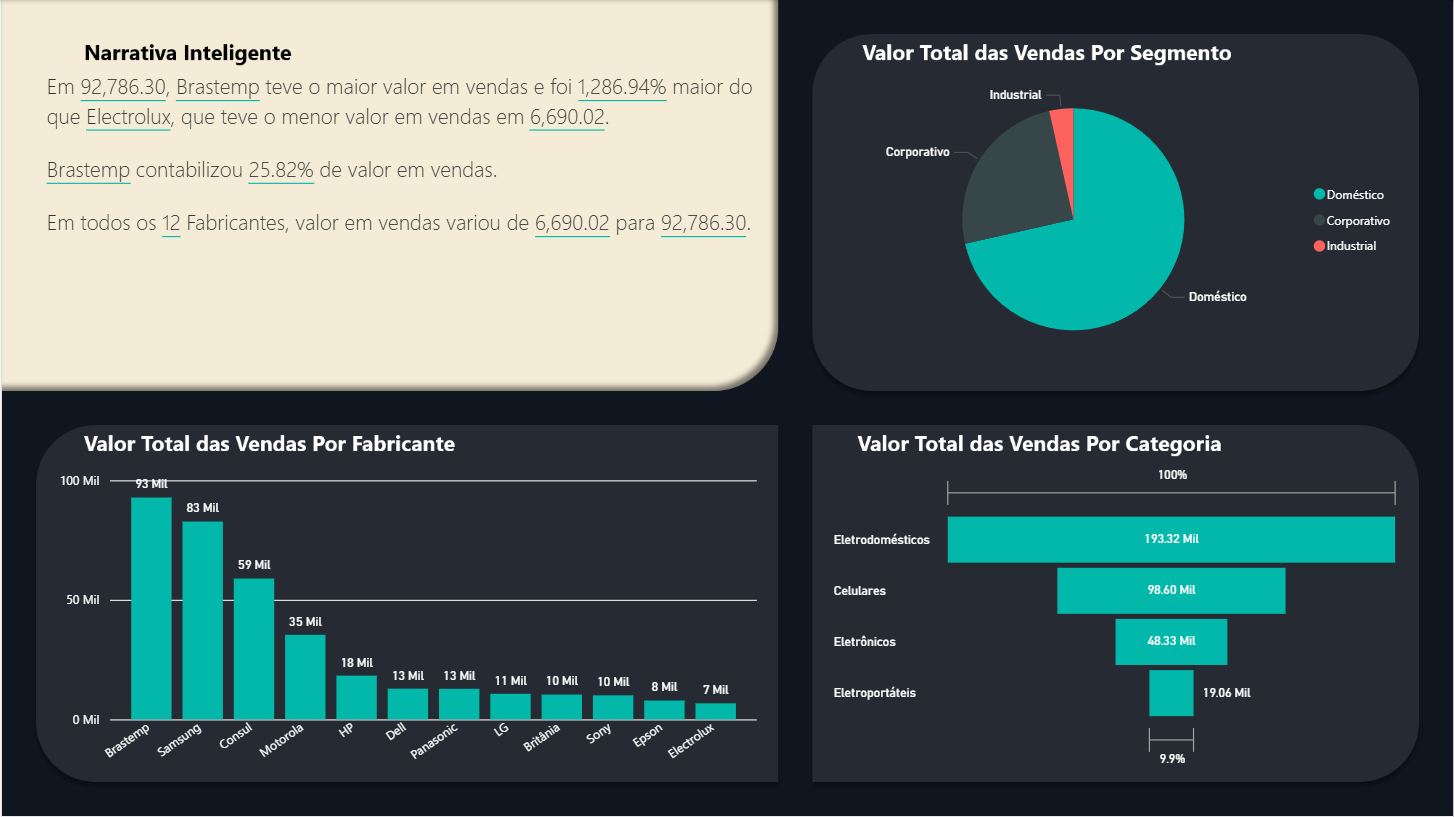

What the dashboard file says about the page in this screenshot:
{"tool":"powerbi","page":{"name":"Narrativa Inteligente","canvas":[1280,720],"ordinal":1},"visuals":[{"type":"pieChart","fields":{"Category":["Vendas.Segmento"],"Y":["Sum(Vendas.ValorVenda)"]},"box":[728.6,58,509.9,270.5],"z":0},{"type":"funnel","fields":{"Y":["Sum(Vendas.ValorVenda)"],"Category":["Vendas.Categoria"]},"box":[728.6,405,510.3,277.7],"z":1000},{"type":"clusteredColumnChart","fields":{"Category":["Vendas.Fabricante"],"Y":["Sum(Vendas.ValorVenda)"]},"box":[46,405,625.2,277.7],"z":2000},{"type":"textbox","box":[34.5,58.4,636.7,271],"z":3000}]}

Visuals, with their boxes in screenshot pixels (x1, y1, x2, y2), scaled from the page's 1280x720 canvas onto the 1454x817 screenshot:
pieChart - Vendas.Segmento x Sum(Vendas.ValorVenda): crop(828, 66, 1407, 373)
funnel - Sum(Vendas.ValorVenda) x Vendas.Categoria: crop(828, 460, 1407, 775)
clusteredColumnChart - Vendas.Fabricante x Sum(Vendas.ValorVenda): crop(52, 460, 762, 775)
textbox: crop(39, 66, 762, 374)
